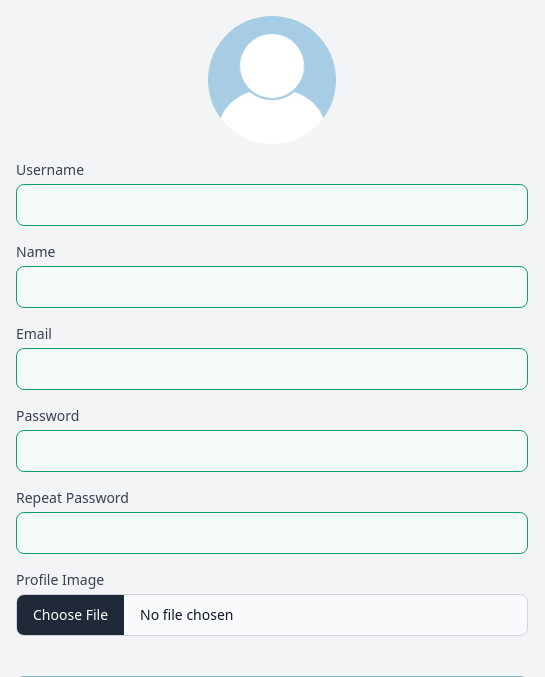
Scenario: UserSignupForm › Input interactions › displays required validation error message given blank username
In the field labelled "Username": (272, 205) [16, 184, 528, 226], type "a"
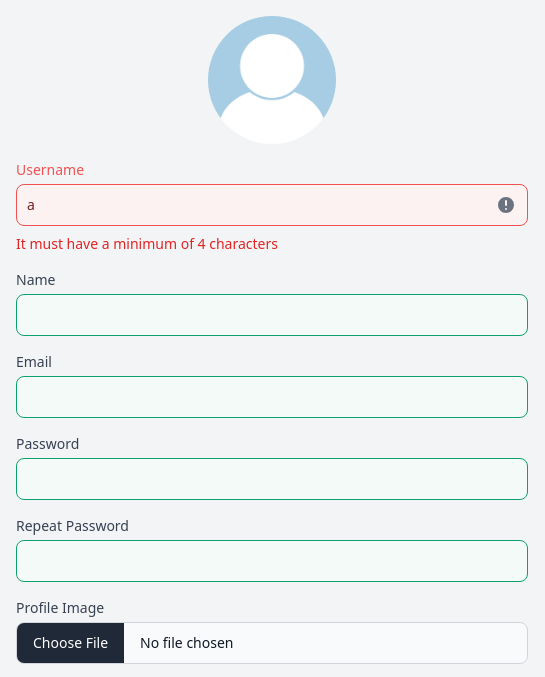
Clear the field labelled "Username": (272, 205) [16, 184, 528, 226]
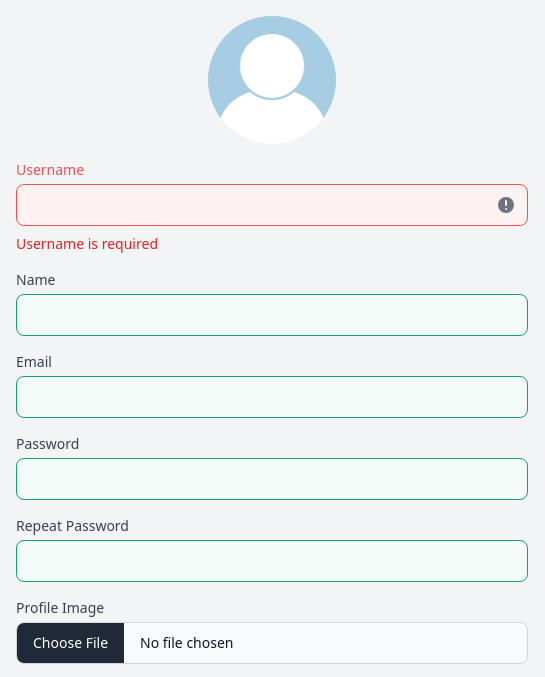
Result: the text "Username is required" is shown at [16, 234, 158, 253]
